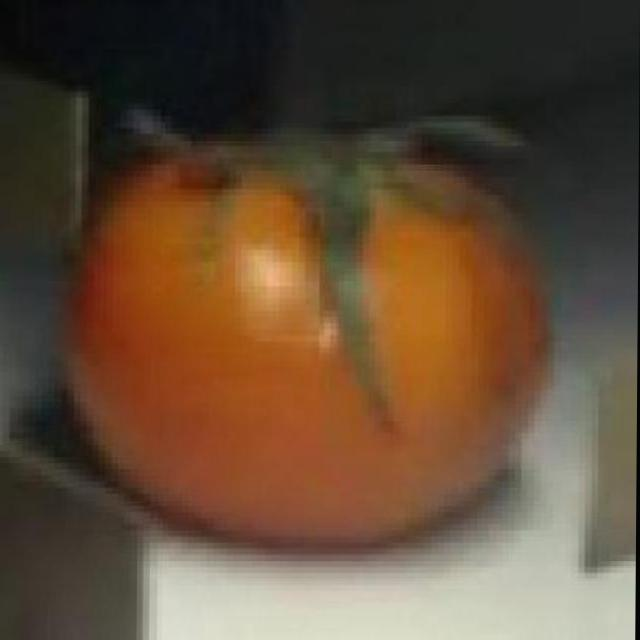tomato: (62, 144, 557, 549)
